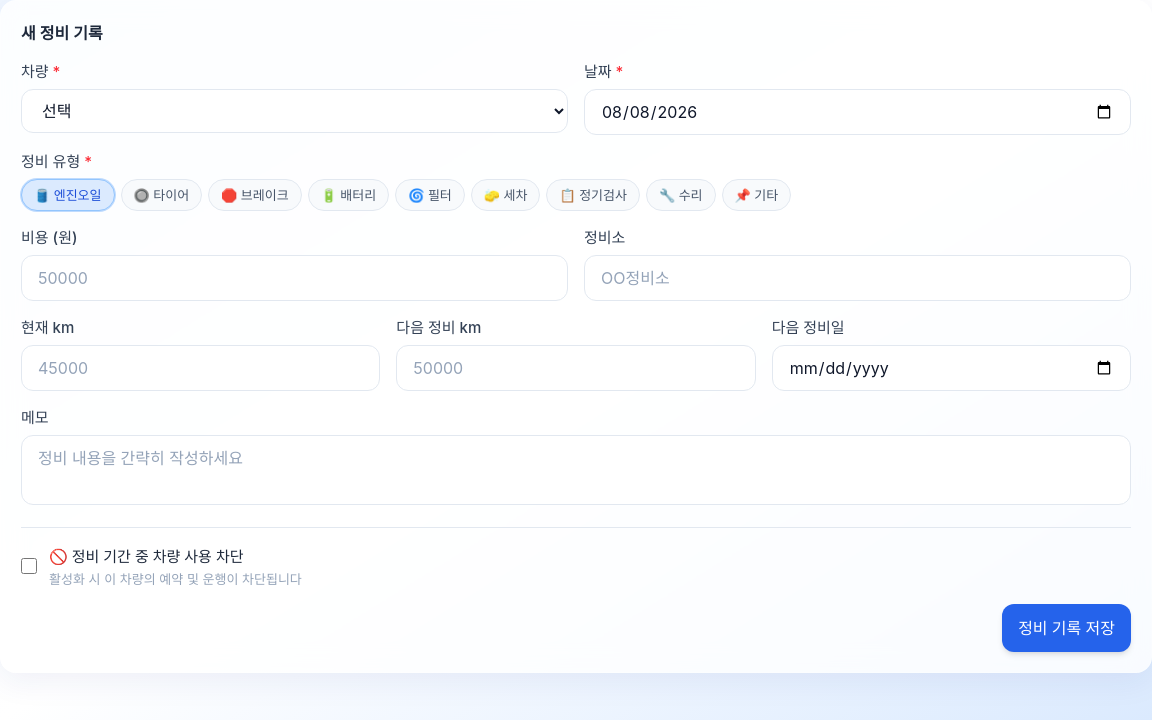
Test: MaintenanceForm — 음수 입력 차단 › 비용 칸은 마이너스를 넣어도 부호가 남지 않는다
Type "-13" into the number field with placeholder "50000" below "비용 (원)". click: (294, 278)
box: [21,255,568,301]
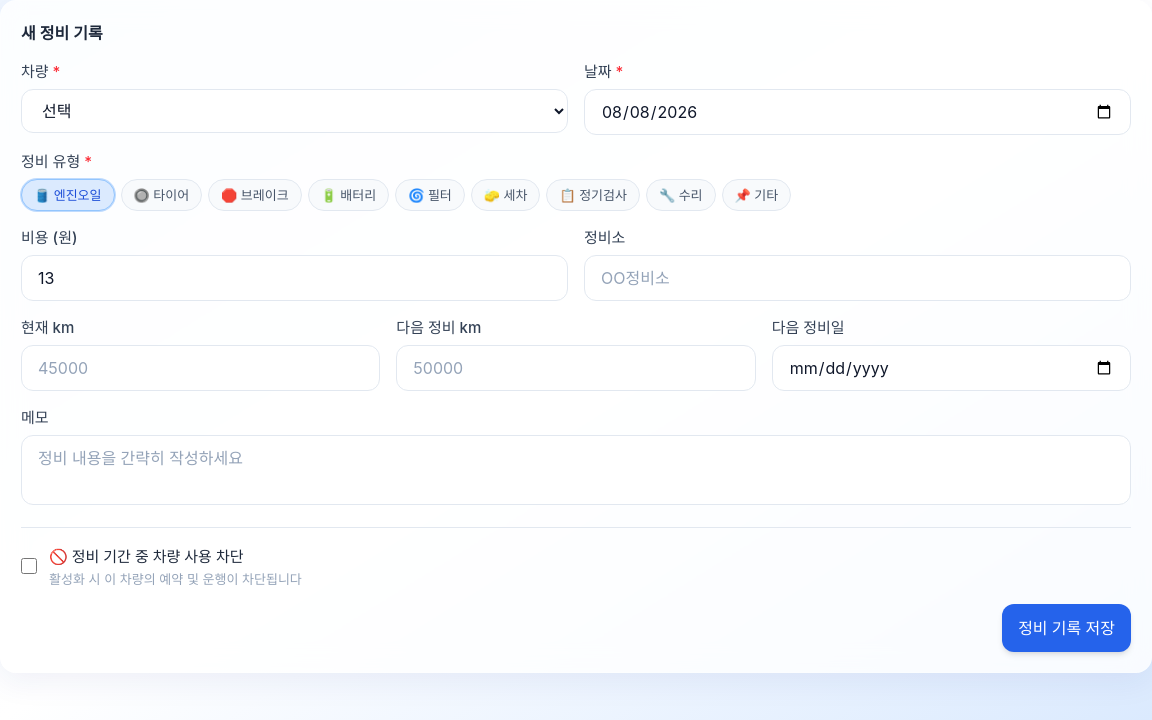
Expected: the 1st number field holds "13", [21,255,568,301]
